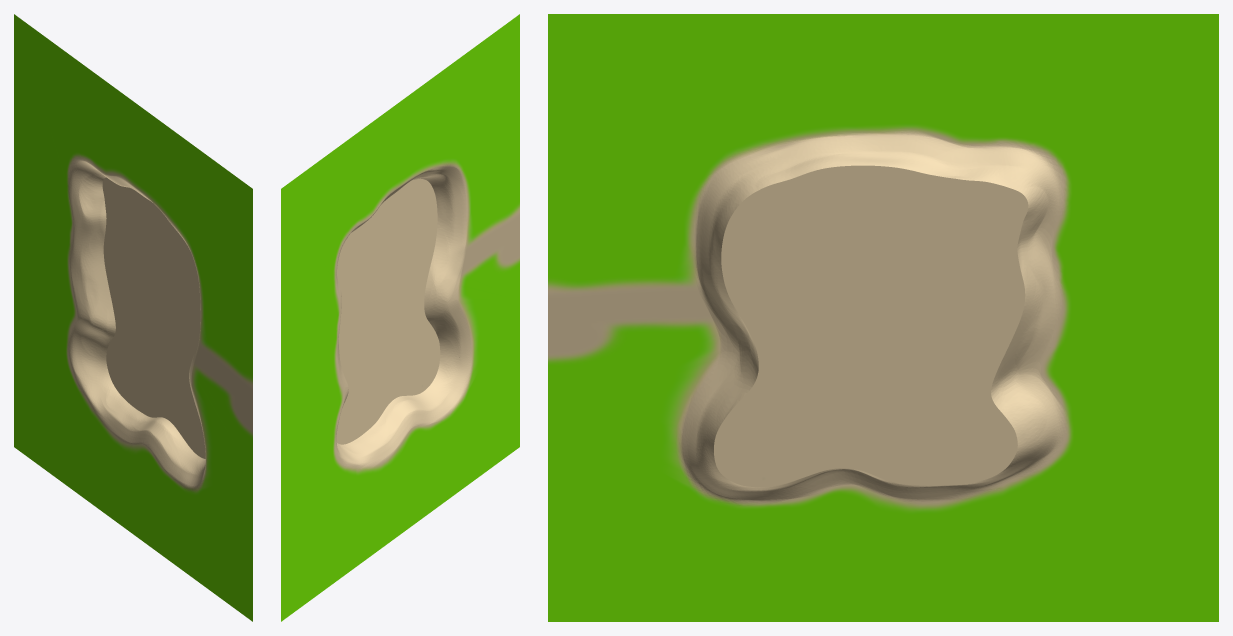
The model's file is LowPolyPaintedLake3.glb.
3 views of the same model, side by side, from view 1: azimuth 30°, elevation 25°; view 2: azimuth 150°, elevation 25°; view 3: azimuth 270°, elevation 25° (orthographic). The views are drawn at different scales.
Visible parts, largest first — view 1: Plane; view 2: Plane; view 3: Plane.
Boxes of the visible parts, <box> form: Plane: <box>14,14,252,621</box>; Plane: <box>281,14,519,621</box>; Plane: <box>548,14,1218,621</box>.
Bounding box in the file's own units: 5 × 100 × 100.
1 material, 1 textured.
